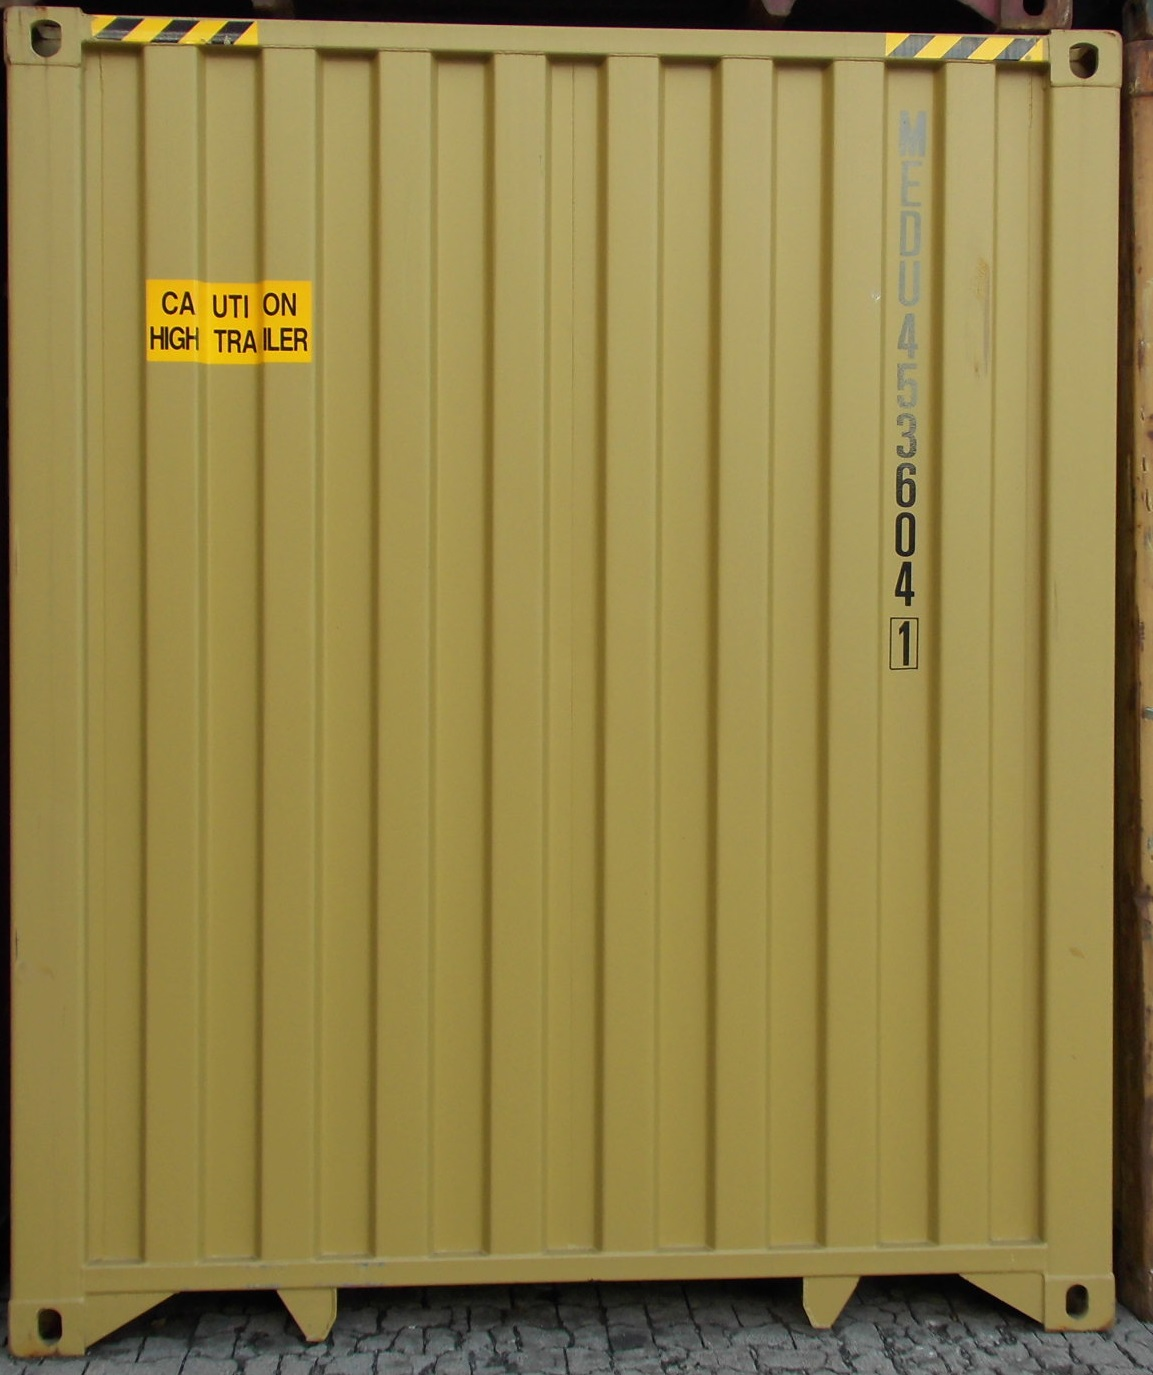container_no_door: (1, 1, 1120, 1353)
